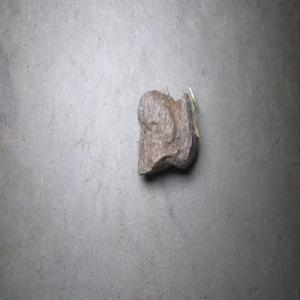Rock: (136, 85, 199, 176)
